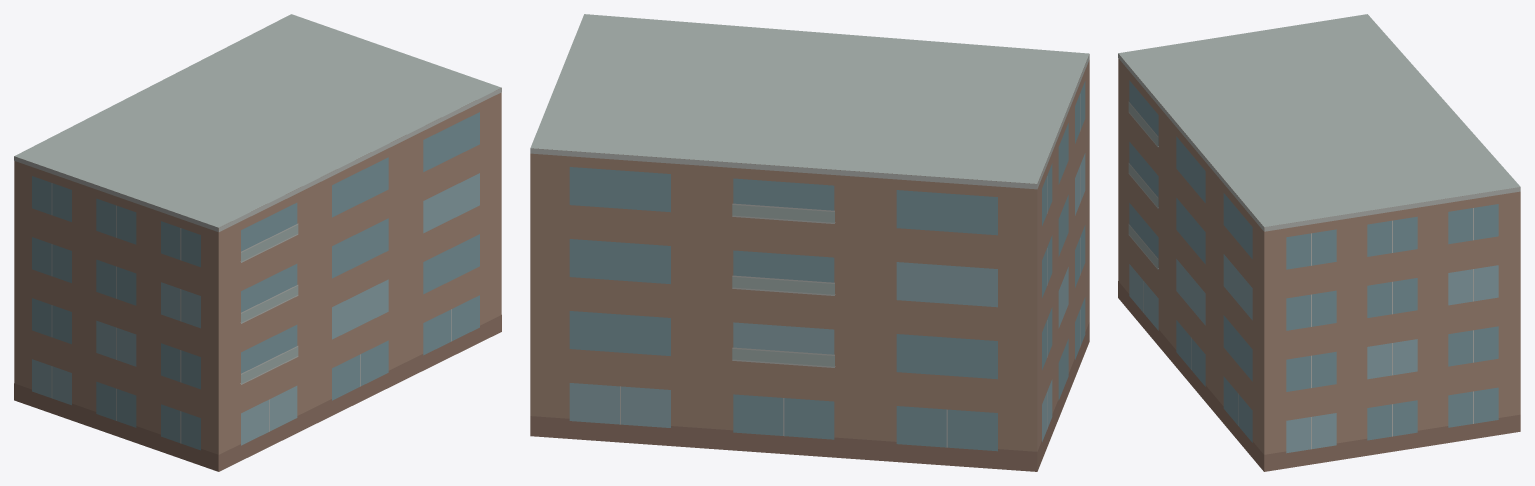
Rendered from survey-upis-32867727.glb.
The picture shows the model from 3 angles, left to right: view 1: azimuth 30°, elevation 25°; view 2: azimuth 150°, elevation 25°; view 3: azimuth 270°, elevation 25°; orthographic projection. The views are drawn at different scales.
Parts seen in each view (by area): view 1: survey-upis-32867727.tmp; view 2: survey-upis-32867727.tmp; view 3: survey-upis-32867727.tmp.
Part boxes in pixels (x1=…): survey-upis-32867727.tmp: x1=14, y1=14, x2=501, y2=471; survey-upis-32867727.tmp: x1=530, y1=14, x2=1089, y2=471; survey-upis-32867727.tmp: x1=1118, y1=14, x2=1520, y2=471.
Size of the model in its own units: 24.35 by 13.03 by 19.44.
